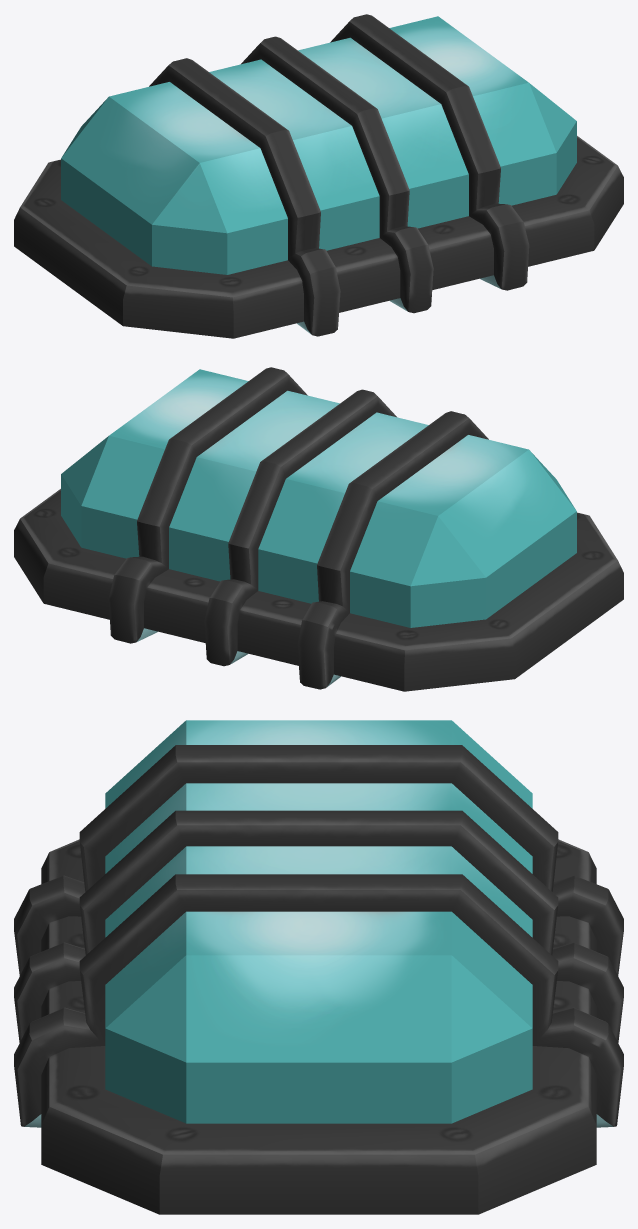
File: Light.fbx
3 views of the same model, one above another, from view 1: azimuth 30°, elevation 25°; view 2: azimuth 150°, elevation 25°; view 3: azimuth 270°, elevation 25° (orthographic). The views are drawn at different scales.
Parts seen in each view (by area): view 1: Cube.010; view 2: Cube.010; view 3: Cube.010.
Part boxes in pixels (x1,y1,x2,y2): Cube.010: (14,14,623,338); Cube.010: (14,367,623,691); Cube.010: (14,720,623,1214).
Bounding box in the file's own units: 85.13 × 27.38 × 61.38.
